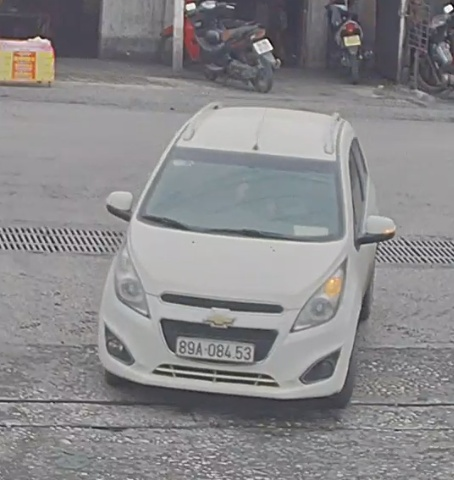vehicle plate: (176, 331, 261, 365)
